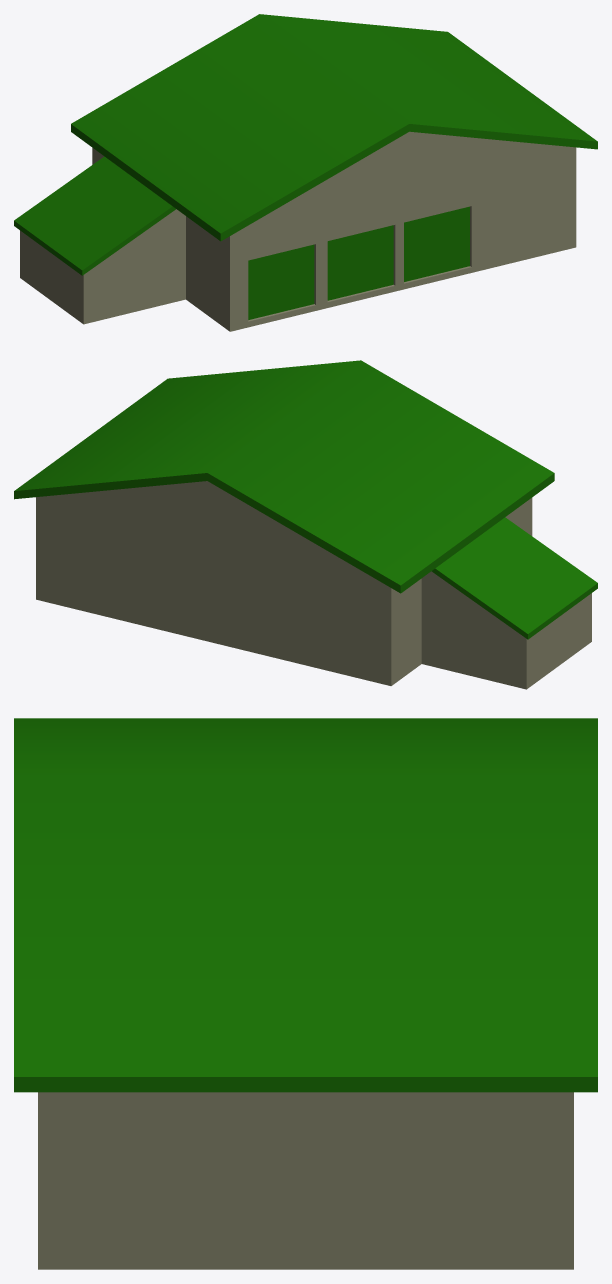
The model's file is RecycleCenter.fbx.
3 views of the same model, one above another, from view 1: azimuth 30°, elevation 25°; view 2: azimuth 150°, elevation 25°; view 3: azimuth 270°, elevation 25° (orthographic). The views are drawn at different scales.
Parts seen in each view (by area): view 1: pCube14; view 2: pCube14; view 3: pCube14.
Boxes of the visible parts, bbox=[...] form: pCube14: bbox=[14, 14, 597, 331]; pCube14: bbox=[14, 360, 597, 689]; pCube14: bbox=[14, 718, 597, 1269].
Bounding box in the file's own units: 44.59 × 15.52 × 24.76.
